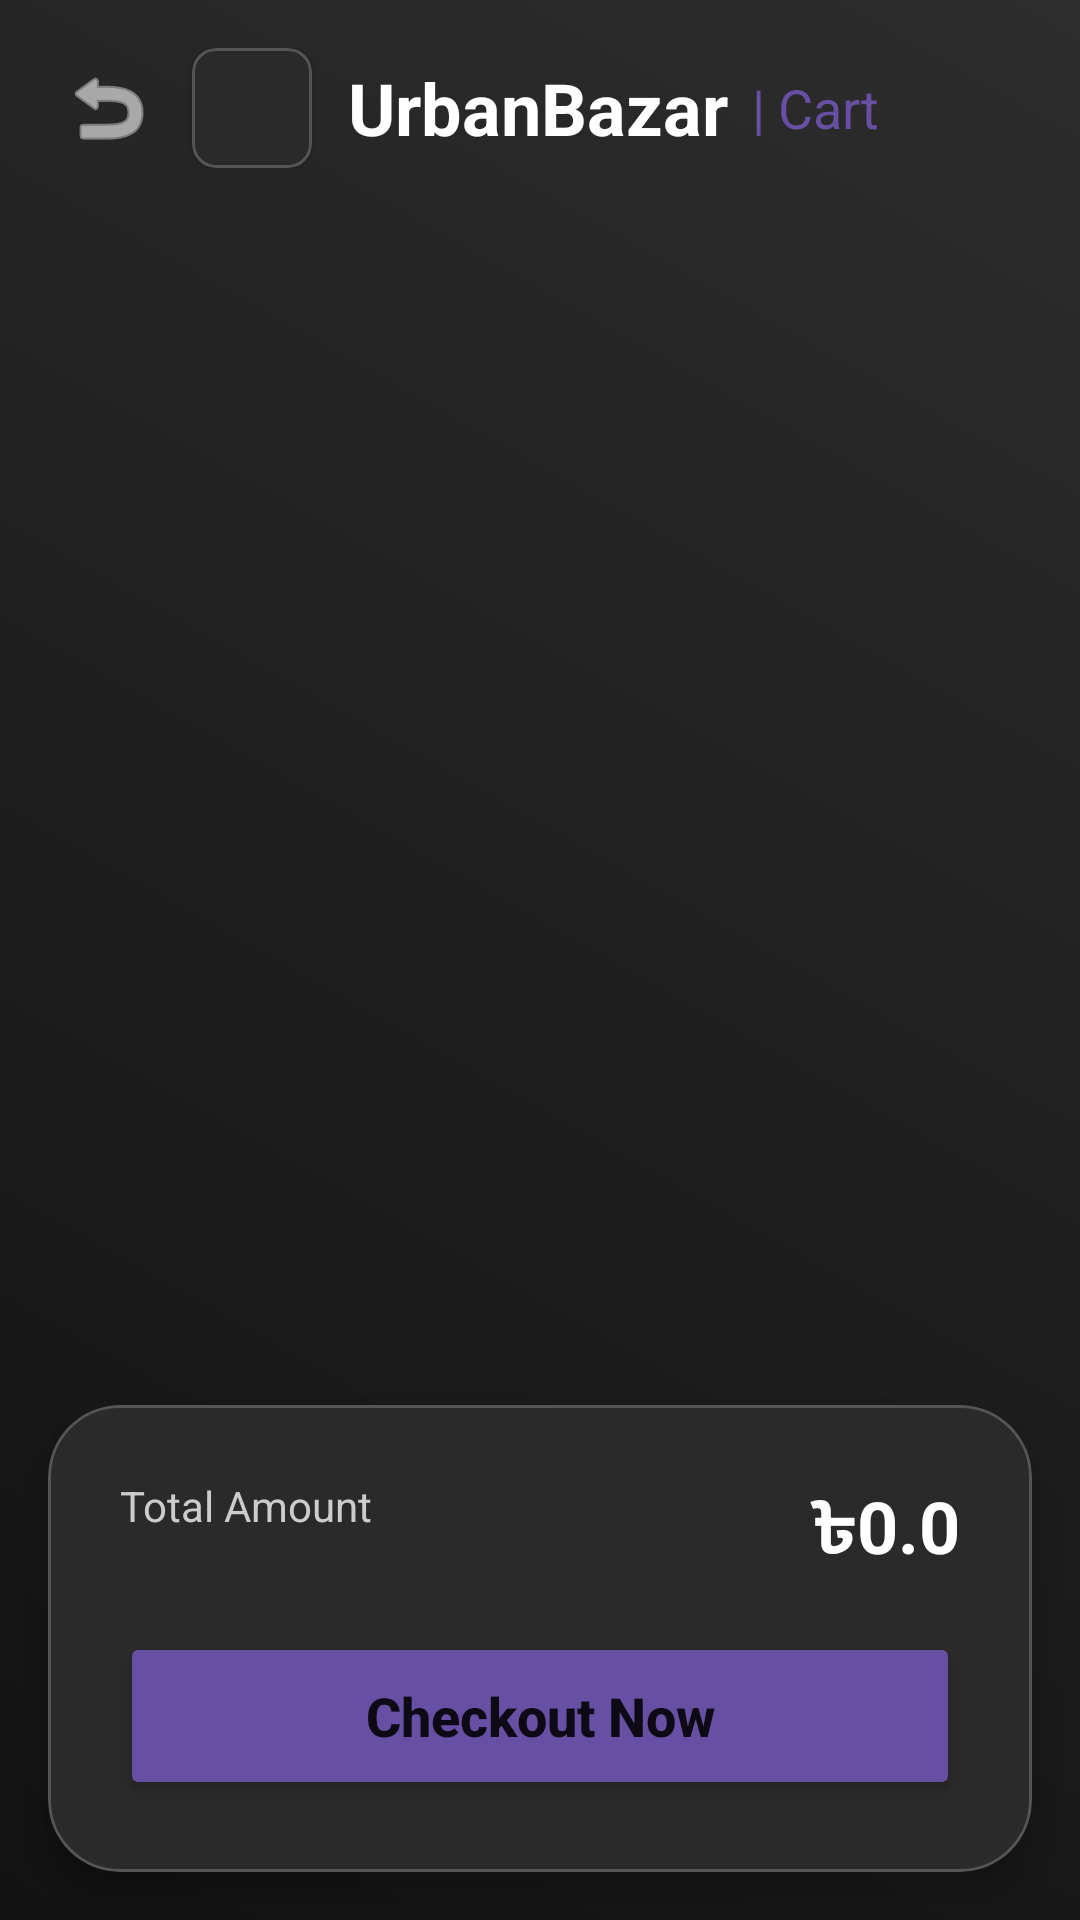

Named icons in this screenshot (1080 x 1920) and their centers, (x=x, y=y):
Back: (x=109, y=108)
